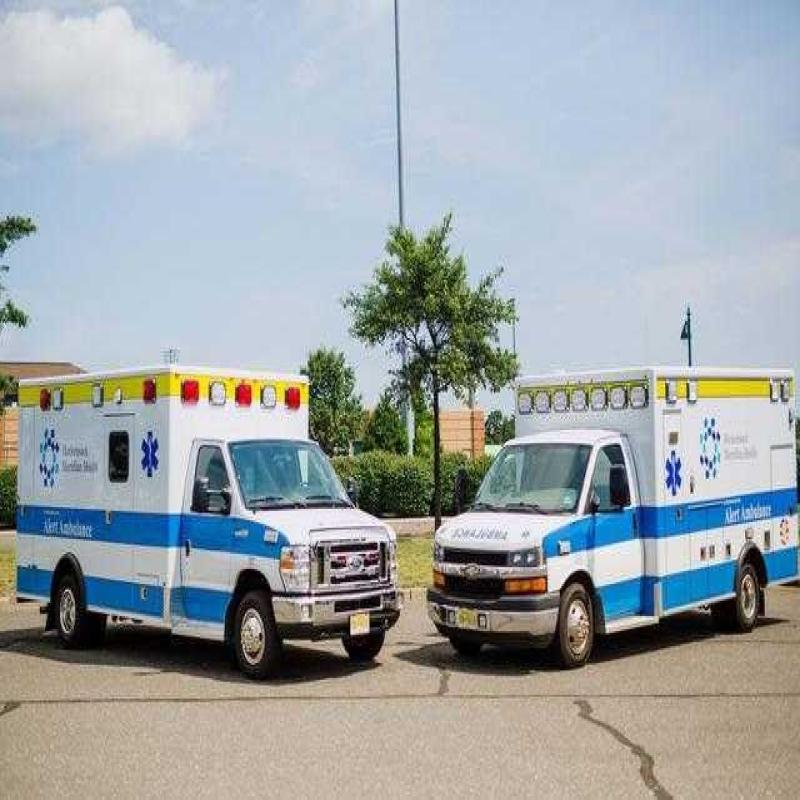AmbulanceSiren: (516, 361, 651, 435), (182, 373, 306, 429)
